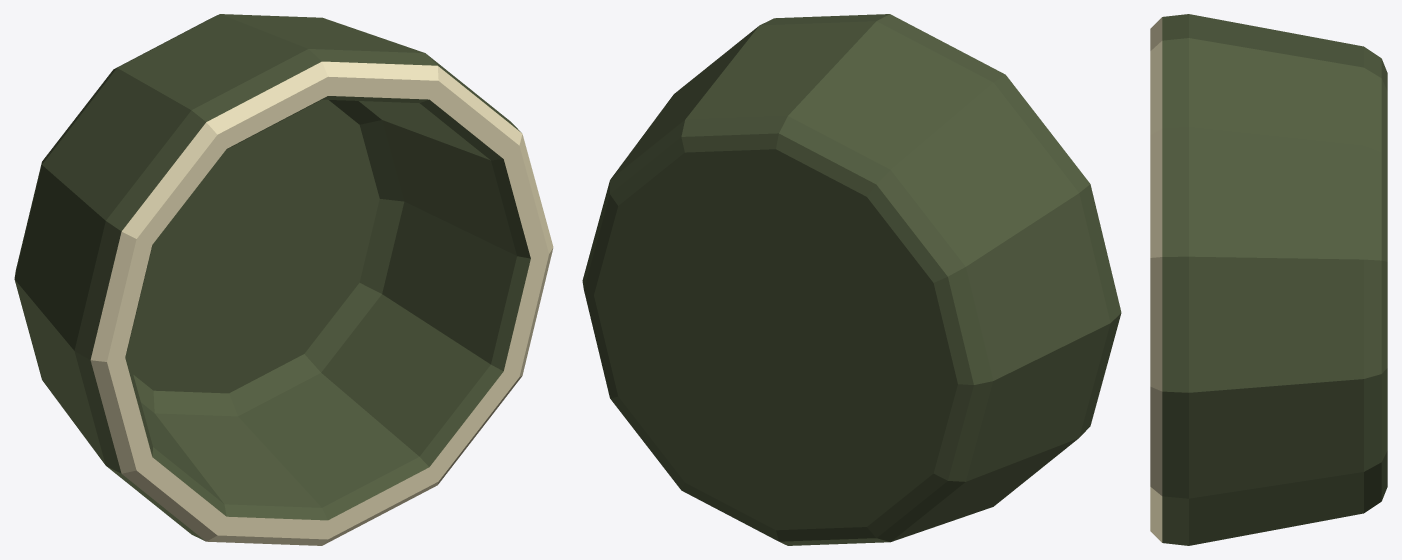
Rendered from pet_bowl.glb.
The picture shows the model from 3 angles, left to right: view 1: azimuth 30°, elevation 25°; view 2: azimuth 150°, elevation 25°; view 3: azimuth 270°, elevation 25°; orthographic projection.
Visible parts, largest first — view 1: pet_bowl; view 2: pet_bowl; view 3: pet_bowl.
Part boxes in pixels (box(x1,y1,x2,y2)): pet_bowl: box(14, 14, 553, 545); pet_bowl: box(582, 14, 1121, 545); pet_bowl: box(1150, 14, 1387, 545).
Bounding box in the file's own units: 0.18 × 0.1802 × 0.08.
